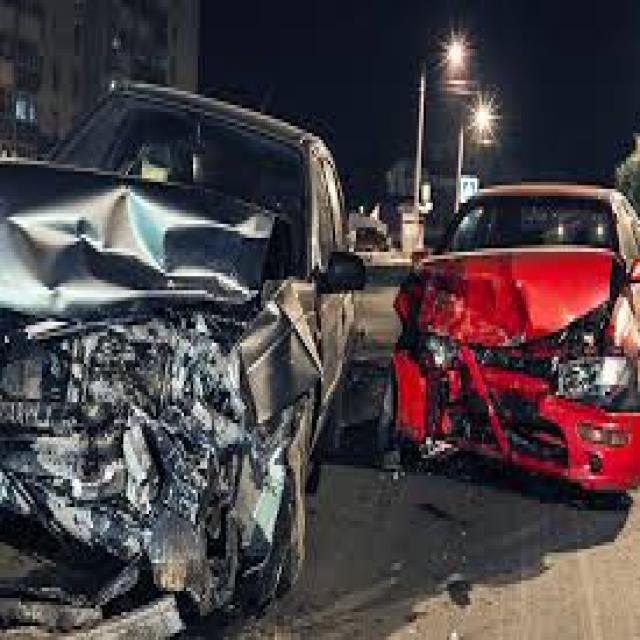accident: (4, 75, 337, 609), (377, 109, 640, 528)
